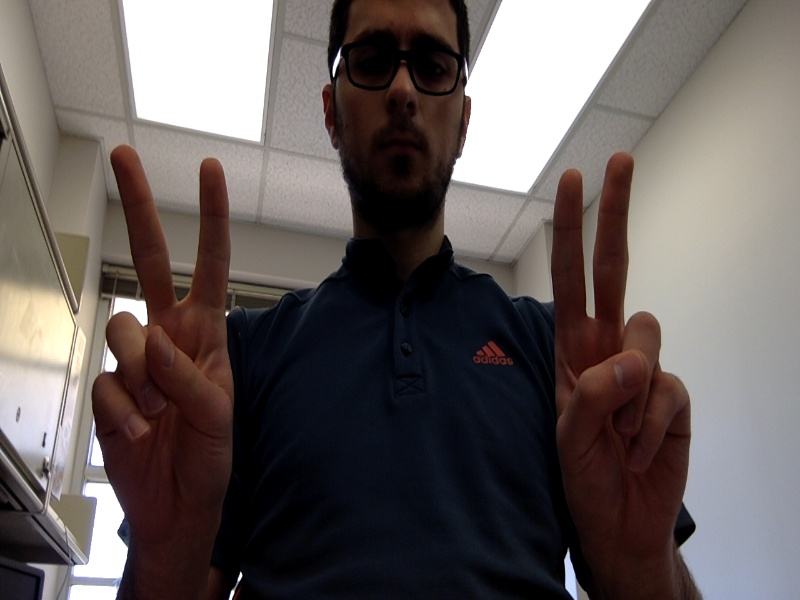2-hand: (94, 146, 231, 559), (553, 153, 689, 561)
